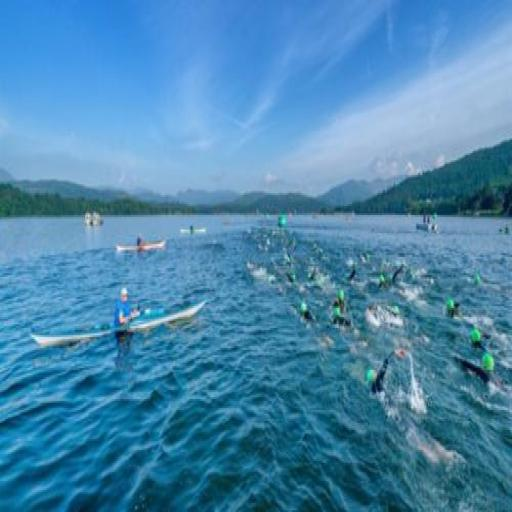swimming: (111, 284, 140, 336), (362, 299, 406, 333), (327, 286, 353, 334), (295, 297, 317, 330), (441, 294, 462, 324)
